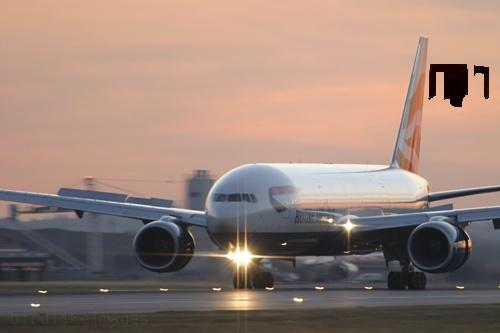tampered: (429, 65, 489, 107)
